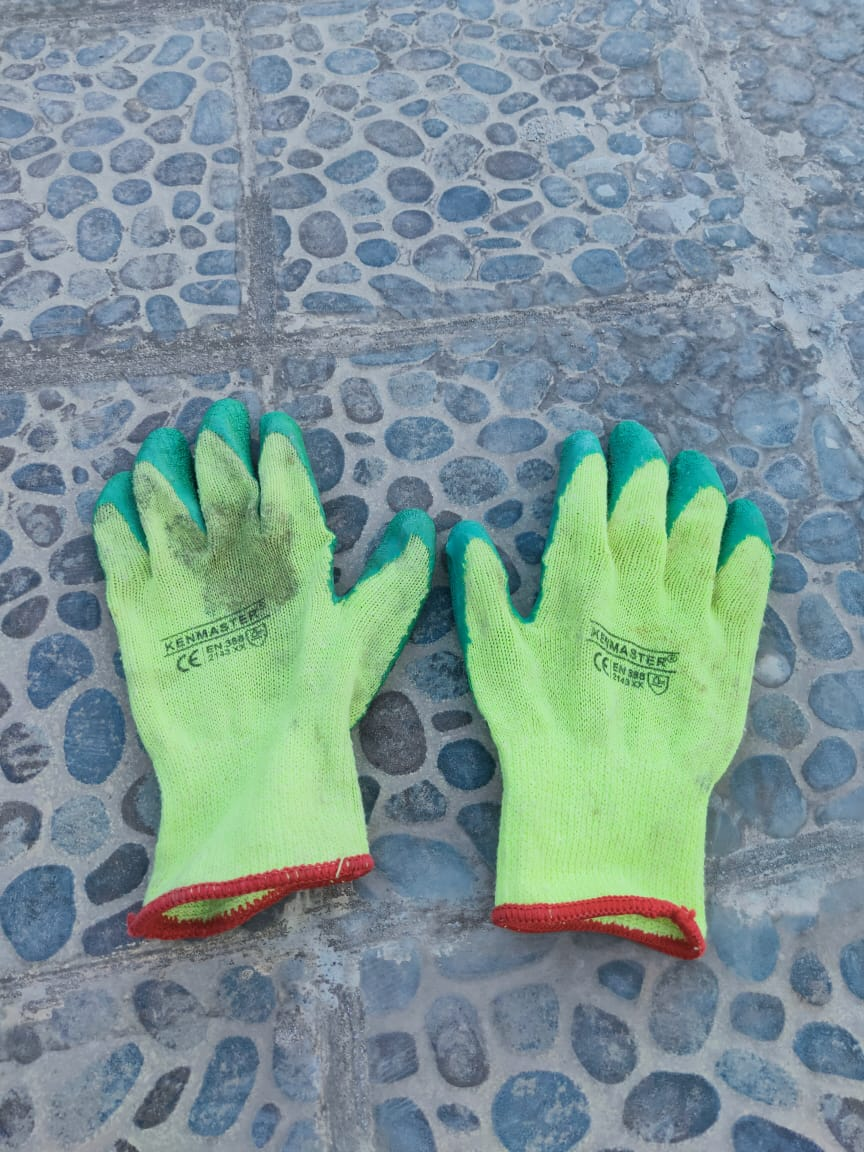SARUNG_TANGAN: (485, 470, 723, 916)
